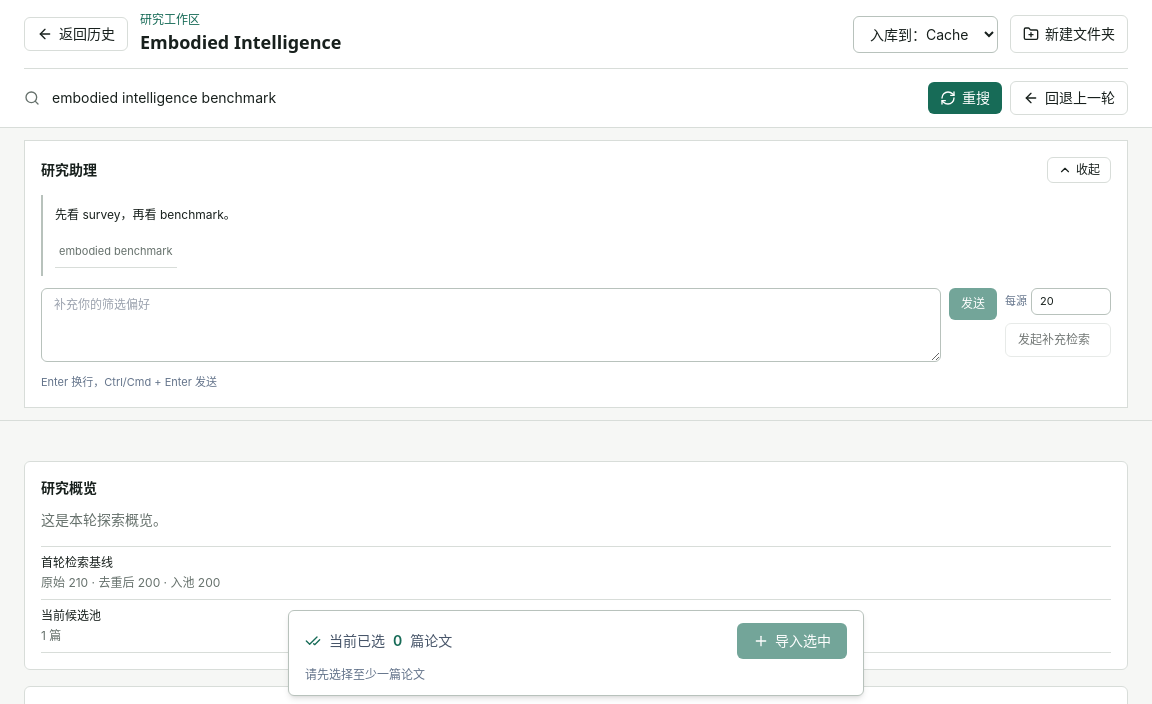
Test: SessionDetailPanel › can collapse chat bar
Click the button "收起" at (1079, 170), box [1047,157,1111,183]
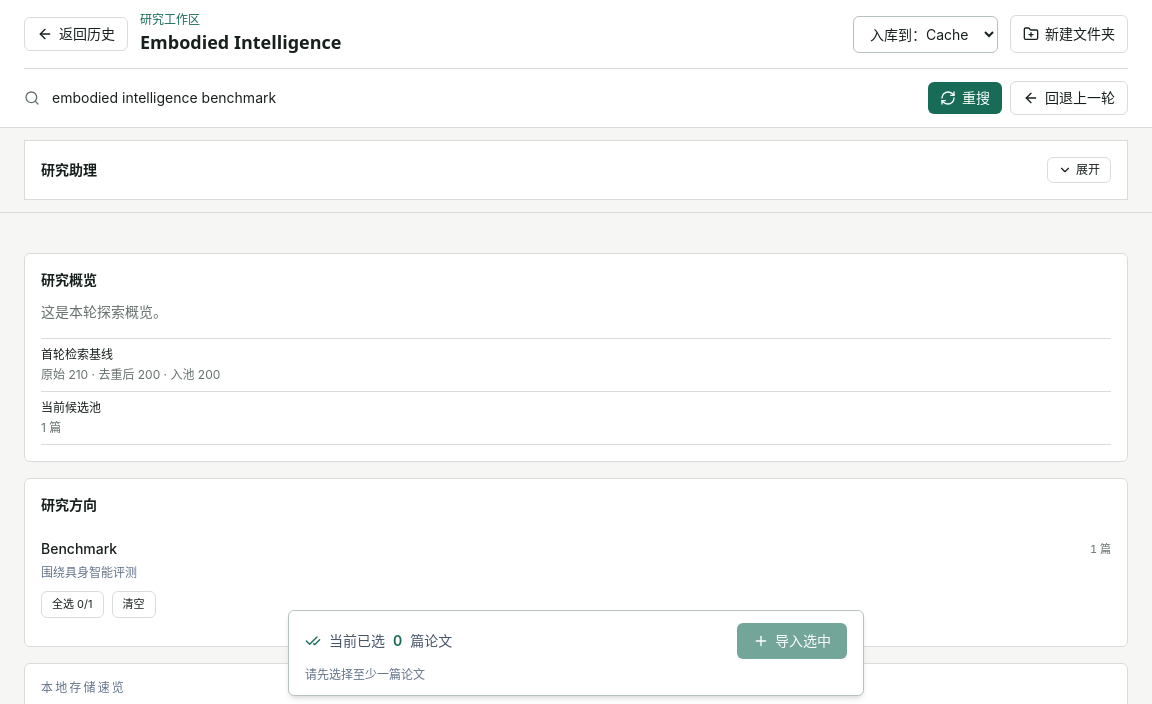
Now the button "展开" is shown, box [1047,157,1111,183]
Now the button "embodied benchmark" is gone
